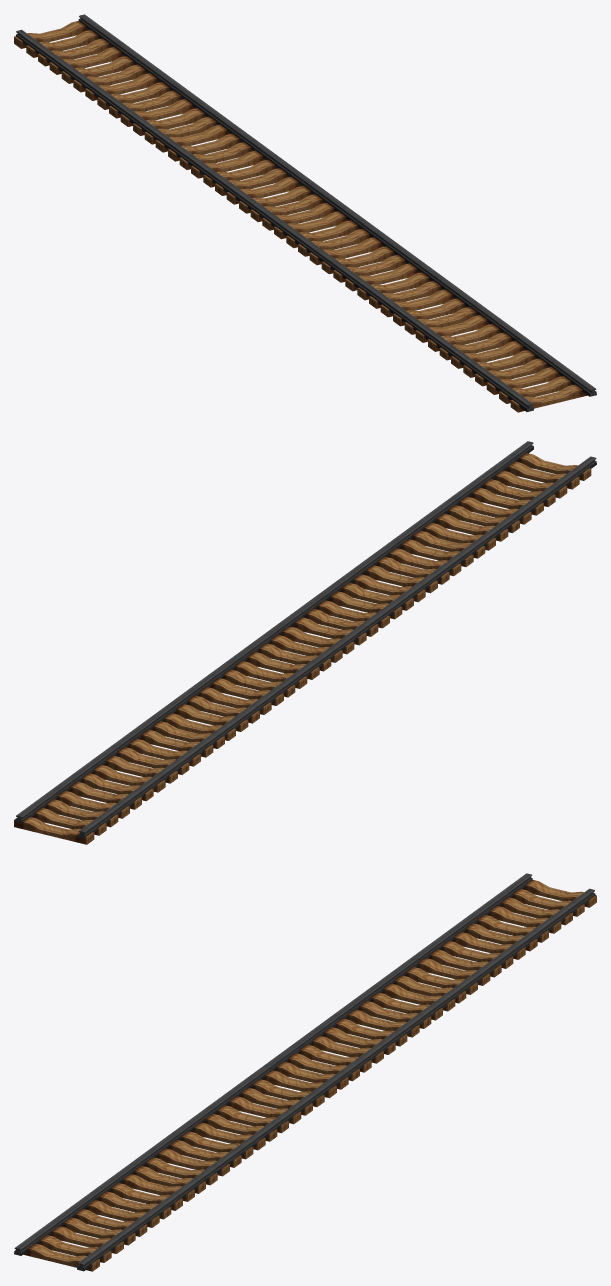
The model's file is straight_railway 1.fbx.
3 renders of one model, top to bottom at view 1: azimuth 30°, elevation 25°; view 2: azimuth 150°, elevation 25°; view 3: azimuth 330°, elevation 25°, orthographic.
Parts seen in each view (by area): view 1: straight_railway; view 2: straight_railway; view 3: straight_railway.
Boxes of the visible parts, left/top/right/bottom form: straight_railway: left=14, top=14, right=596, bottom=412; straight_railway: left=14, top=441, right=596, bottom=844; straight_railway: left=14, top=873, right=596, bottom=1271.
Size of the model in its own units: 2.44 by 0.3837 by 29.58.
